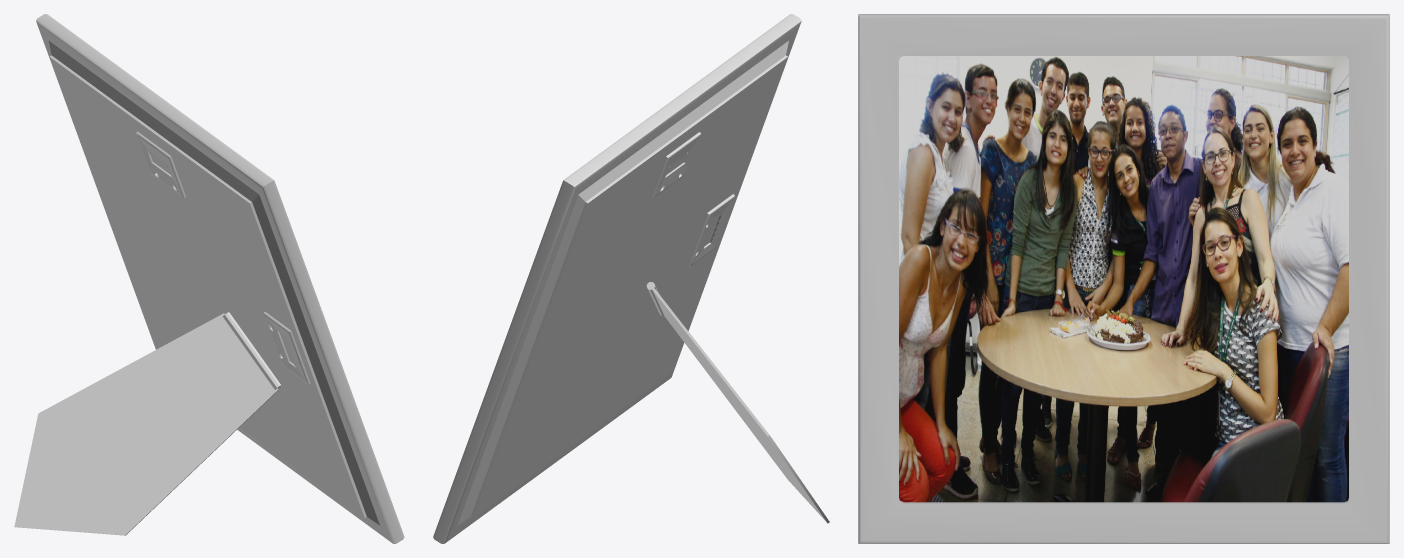
File: picture_frame_01.glb
The picture shows the model from 3 angles, left to right: view 1: azimuth 30°, elevation 25°; view 2: azimuth 150°, elevation 25°; view 3: azimuth 270°, elevation 25°; orthographic projection. The views are drawn at different scales.
Parts seen in each view (by area): view 1: Object_2; view 2: Object_2; view 3: Object_2.
Part boxes in pixels (<box>): Object_2: <box>14,14,404,543</box>; Object_2: <box>433,14,829,543</box>; Object_2: <box>858,14,1389,543</box>.
Size of the model in its own units: 3.55 by 4.76 by 5.01.
2 materials, 1 textured.
